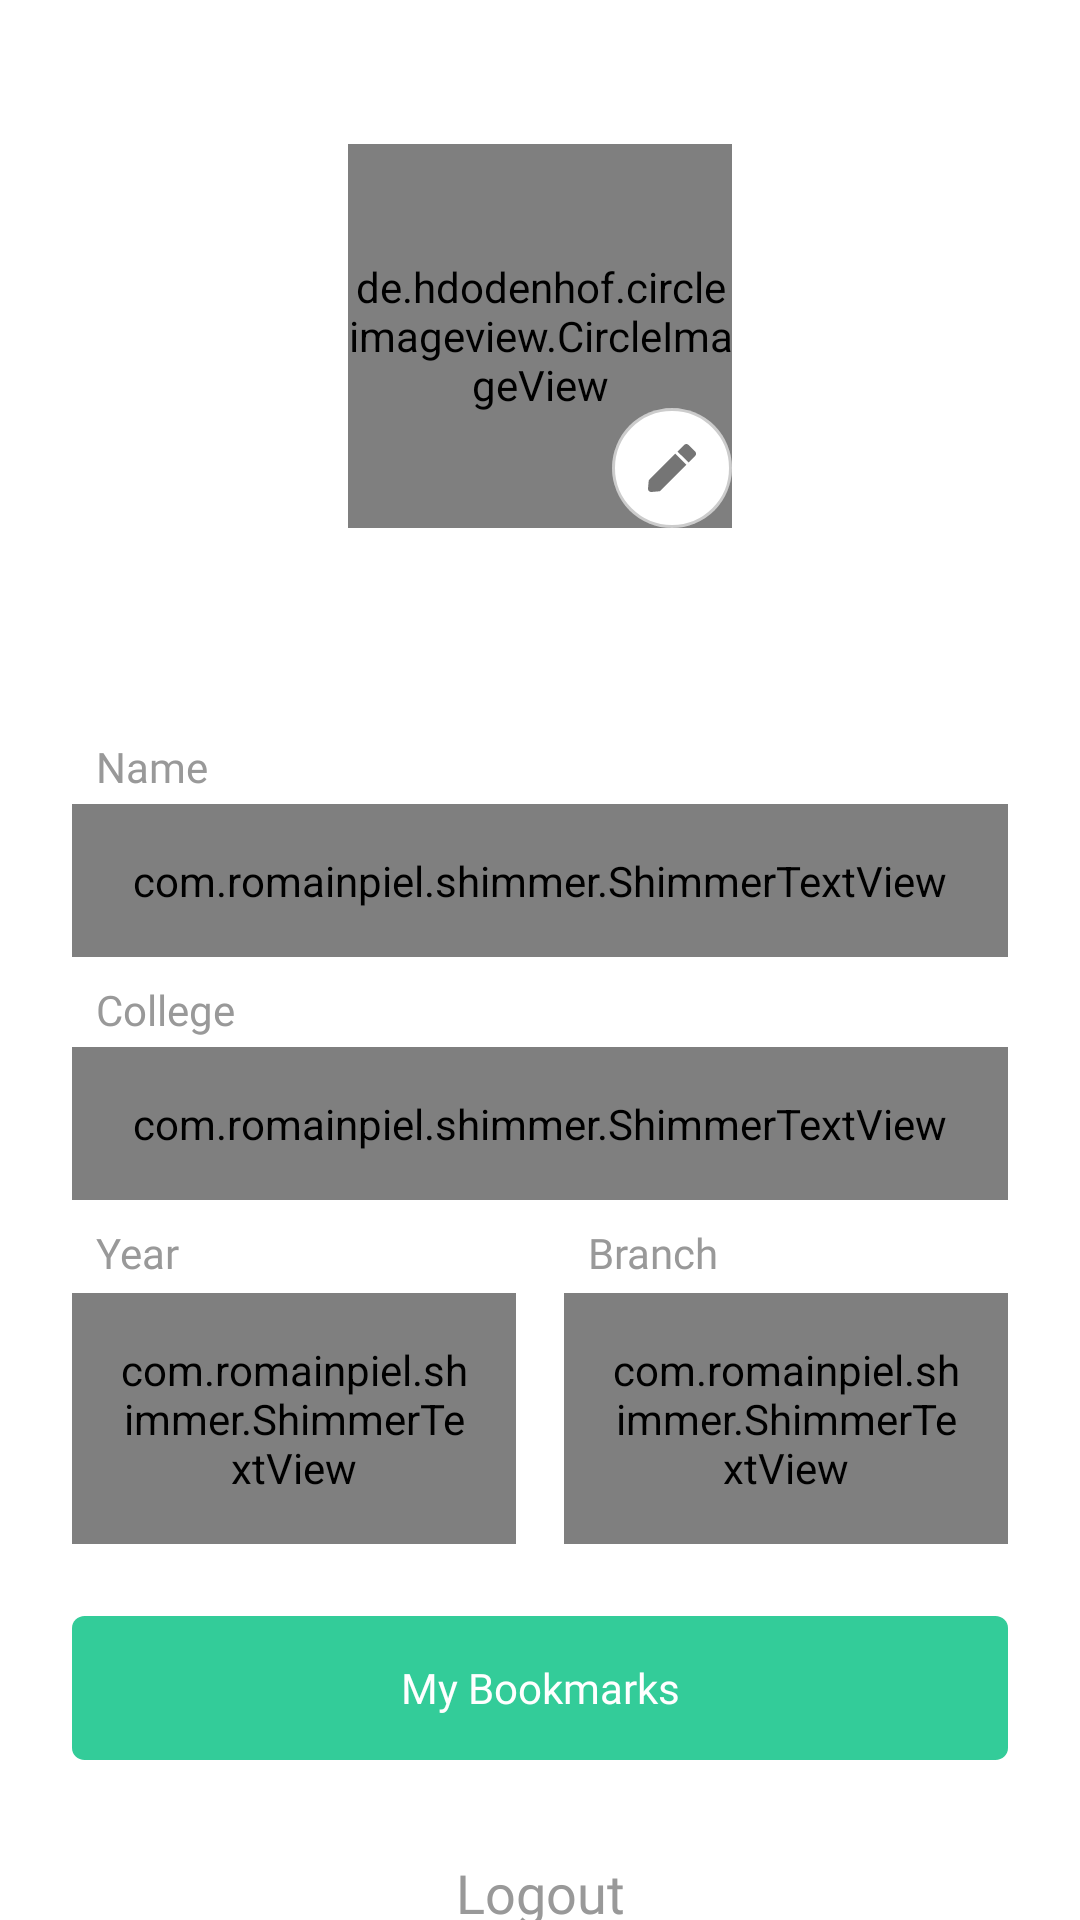

Where to tap for icons on this 1080w x 1920h app screen, as (x=x, y=y):
edit pencil: (x=672, y=468)
